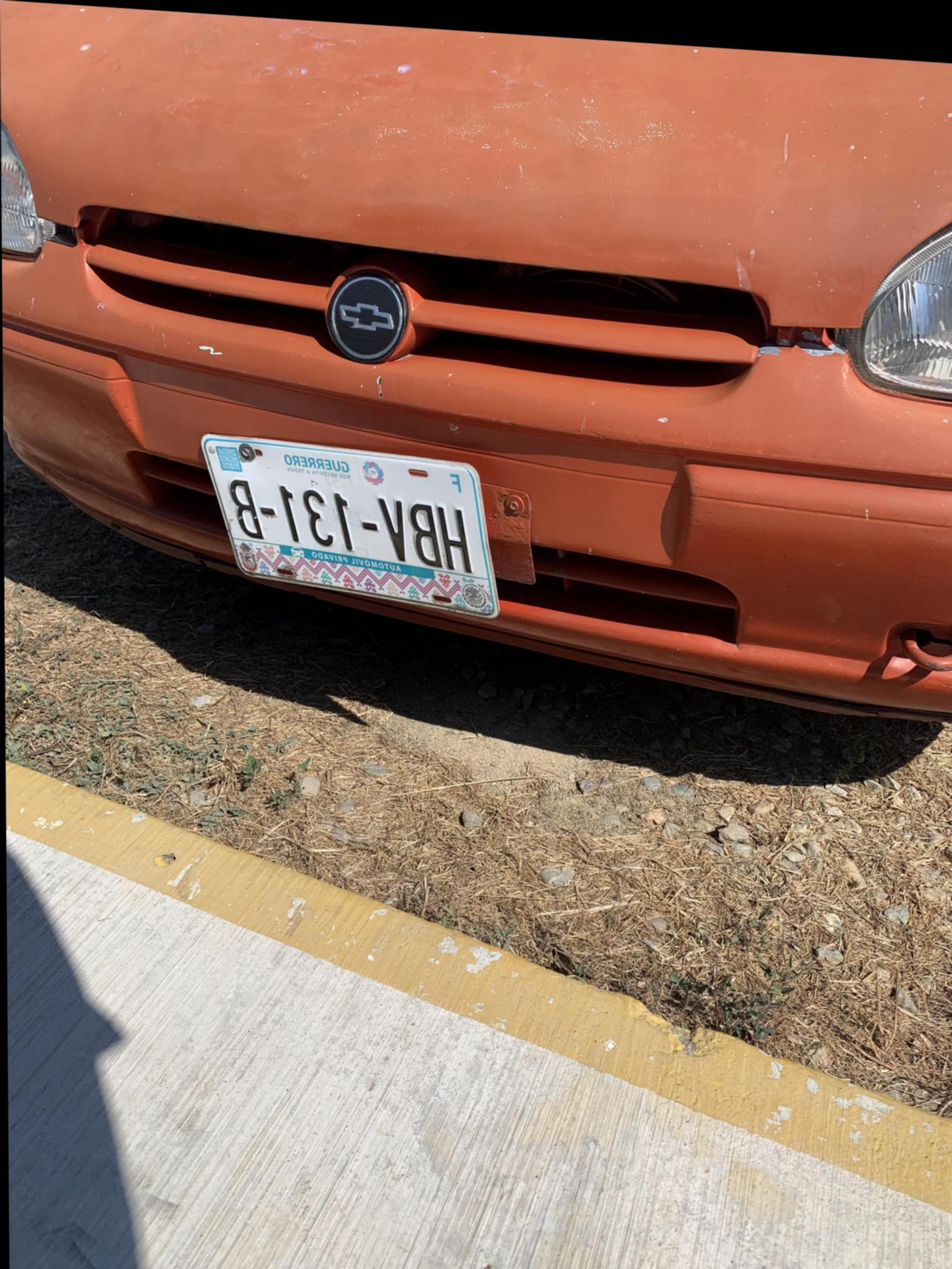License_Plate: (191, 419, 526, 645)
